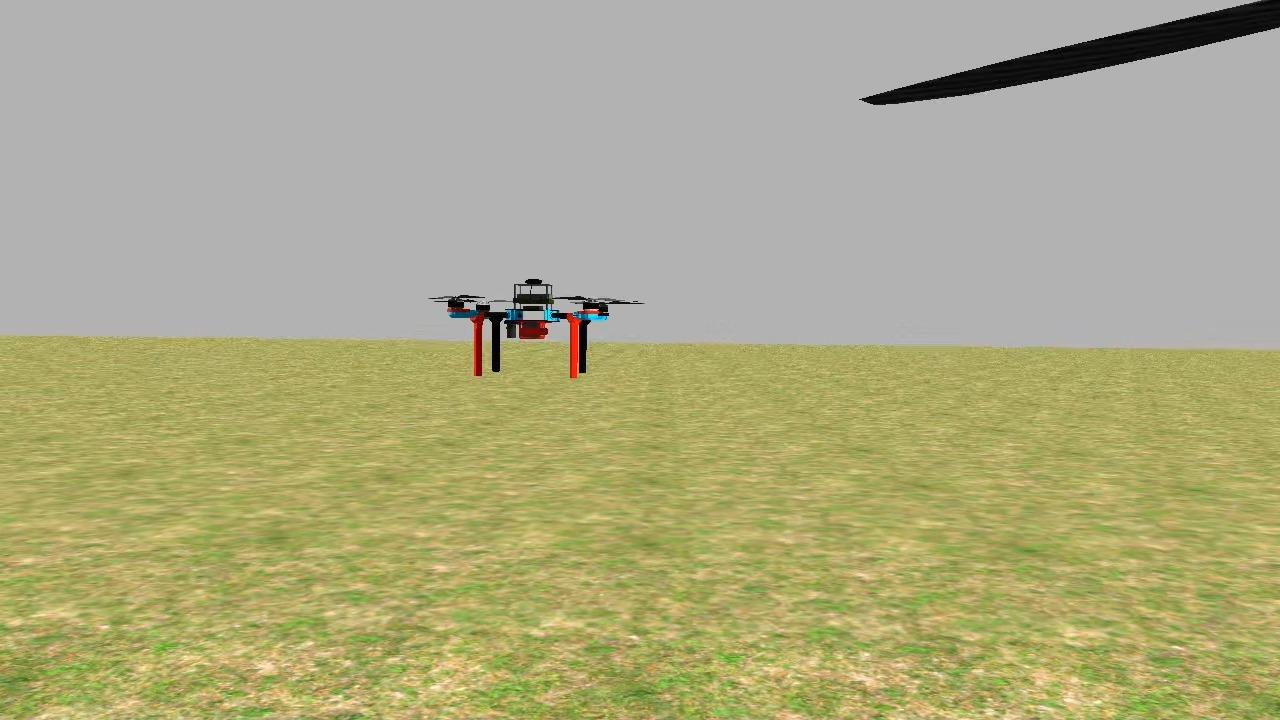UAV: (437, 270, 619, 392)
